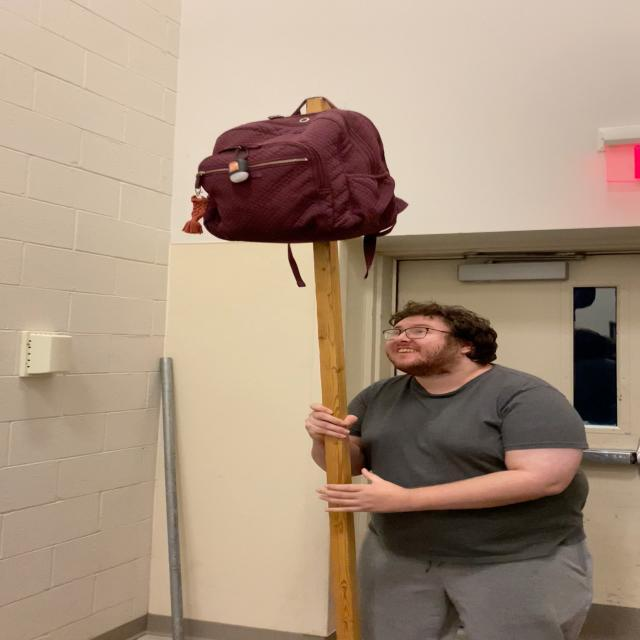Backpacks: (196, 98, 402, 252)
